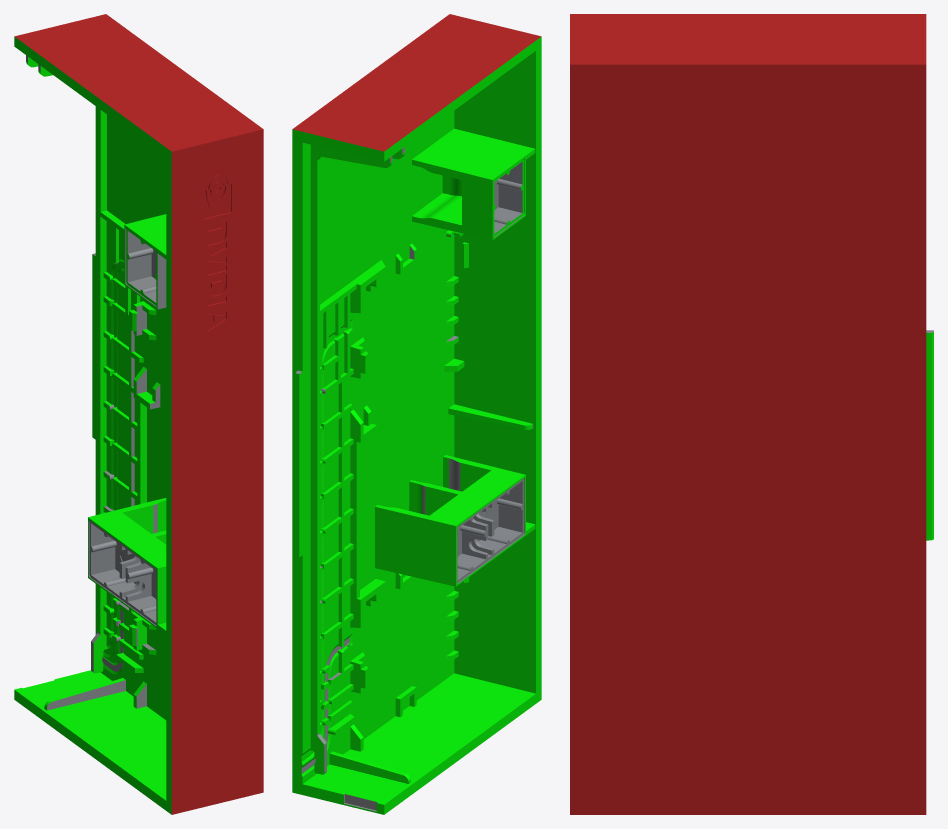
File: PCIE_COVER_CONCORD.gltf
3 renders of one model, left to right at view 1: azimuth 30°, elevation 25°; view 2: azimuth 150°, elevation 25°; view 3: azimuth 270°, elevation 25°, orthographic. The views are drawn at different scales.
Visible parts, largest first — view 1: mesh13853, mesh13898, mesh14535, mesh14277, mesh13899, mesh14211, mesh14508, mesh13932, mesh13951, mesh14295, mesh14227, mesh14382 (+11 smaller); view 2: mesh14535, mesh14377, mesh13898, mesh14277, mesh13957, mesh13899, mesh13951, mesh13948, mesh14381, mesh14382, mesh14508, mesh14481 (+15 smaller); view 3: mesh13897, mesh13898, mesh13956.
Part boxes in pixels (x1,y1,x2,y2): mesh13853: (171,129,263,814); mesh13898: (14,14,263,151); mesh14535: (101,114,166,719); mesh14277: (14,670,166,800); mesh13899: (14,36,171,814); mesh14211: (93,216,107,673); mesh14508: (88,498,166,568); mesh13932: (97,108,124,633); mesh13951: (92,106,97,634); mesh14295: (112,279,139,506); mesh14227: (103,261,124,654); mesh14382: (124,214,166,254); mesh14535: (302,111,454,783); mesh14377: (454,51,535,693); mesh13898: (292,14,541,151); mesh14277: (303,673,535,804); mesh13957: (292,129,384,814); mesh13899: (384,36,541,814); mesh13951: (299,143,310,753); mesh13948: (310,144,390,774); mesh14381: (375,507,455,586); mesh14382: (412,128,534,179); mesh14508: (375,455,525,525); mesh14481: (412,159,492,240); mesh13897: (570,64,926,814); mesh13898: (570,14,926,64); mesh13956: (926,332,931,540).
Bounding box in the file's own units: 0.016 × 0.11 × 0.0483.
